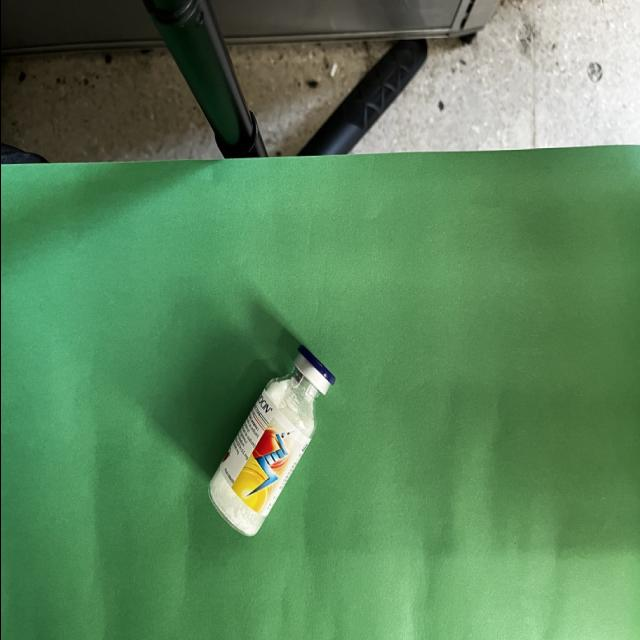Vials: (206, 345, 334, 537)
